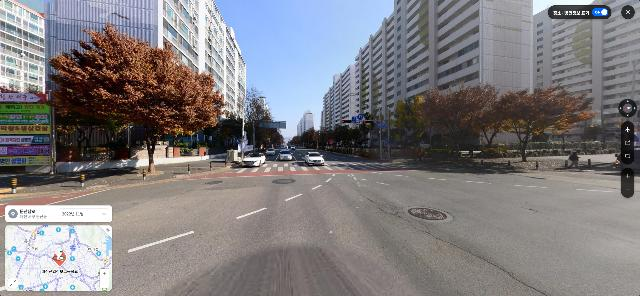other: (47, 23, 226, 174), (487, 85, 596, 163), (416, 82, 505, 160)
